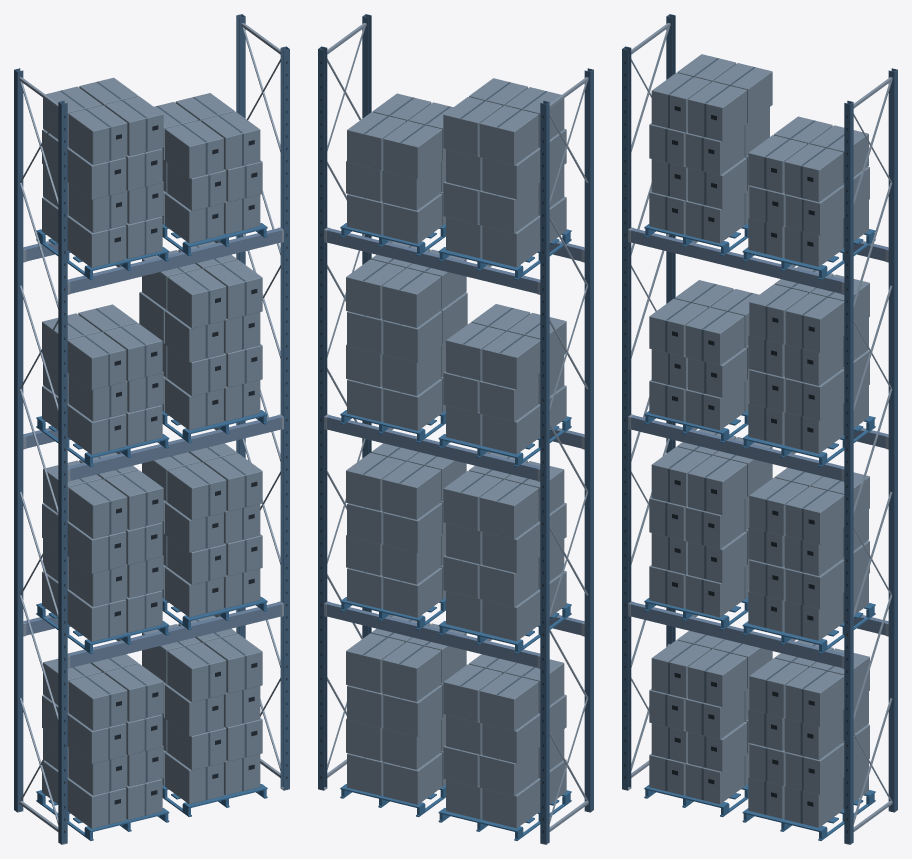
File: SM_GHS_V2Rack_A_W29505.fbx
3 views of the same model, side by side, from view 1: azimuth 30°, elevation 25°; view 2: azimuth 150°, elevation 25°; view 3: azimuth 330°, elevation 25° (orthographic).
Parts seen in each view (by area): view 1: SM_GHS_V2Rack_A_W29505; view 2: SM_GHS_V2Rack_A_W29505; view 3: SM_GHS_V2Rack_A_W29505.
Part boxes in pixels (box(x1,y1,x2,y2)): SM_GHS_V2Rack_A_W29505: box(14, 14, 289, 844); SM_GHS_V2Rack_A_W29505: box(318, 14, 593, 844); SM_GHS_V2Rack_A_W29505: box(622, 14, 897, 844).
Bounding box in the file's own units: 295 × 122 × 915.
